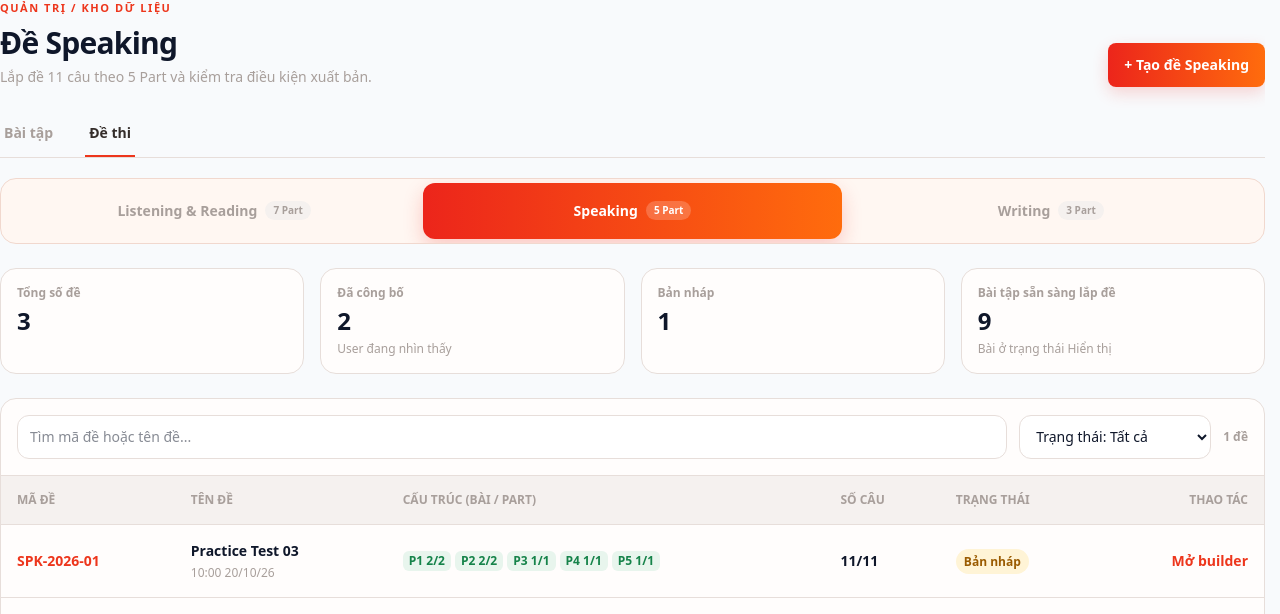
Test: AdminSpeakingTestsPage › loads the test into the workspace and blocks publishing an incomplete test
What coordinates should you click on to do the following:
click the button "Practice Test 03"
I would click on:
 (245, 550)
Its box is [191,540,299,560].
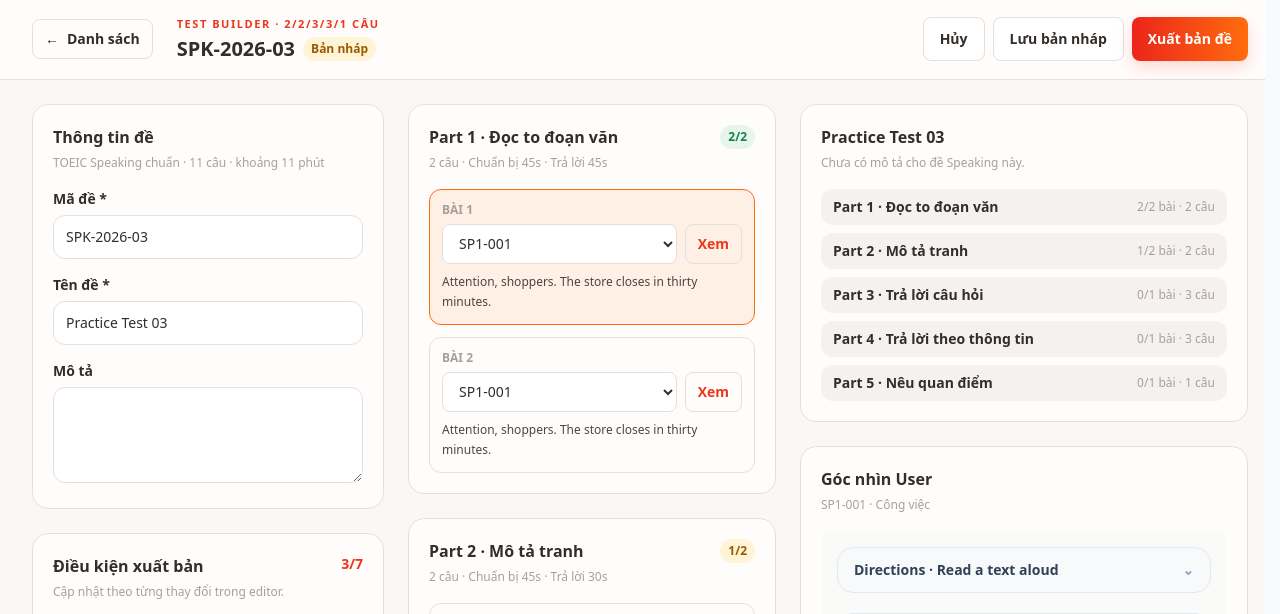
Now the field showing "SPK-2026-03" is shown, box [53,214,363,258]
What coordinates should you click on to do the following:
click the button "Xuất bản đề"
I would click on:
 (1190, 39)
Its box is [1132,17,1248,61].
(page scrolled)
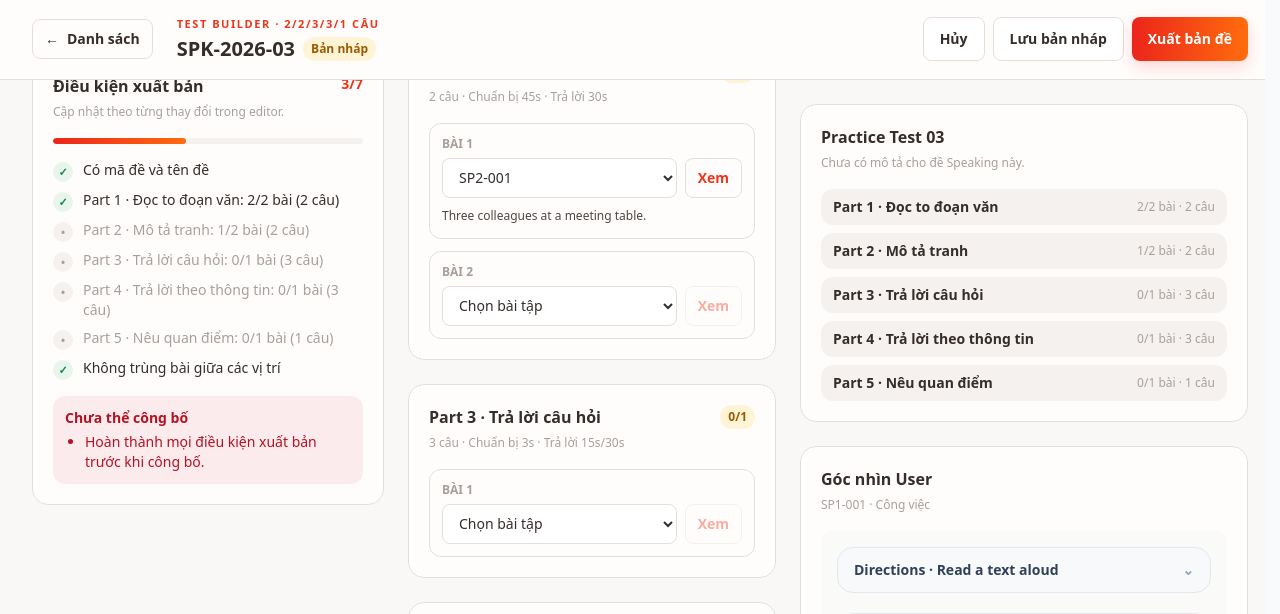
Now the message shows "Hoàn thành mọi điều kiện xuất bản trước khi công bố.", box [85,432,317,470]
